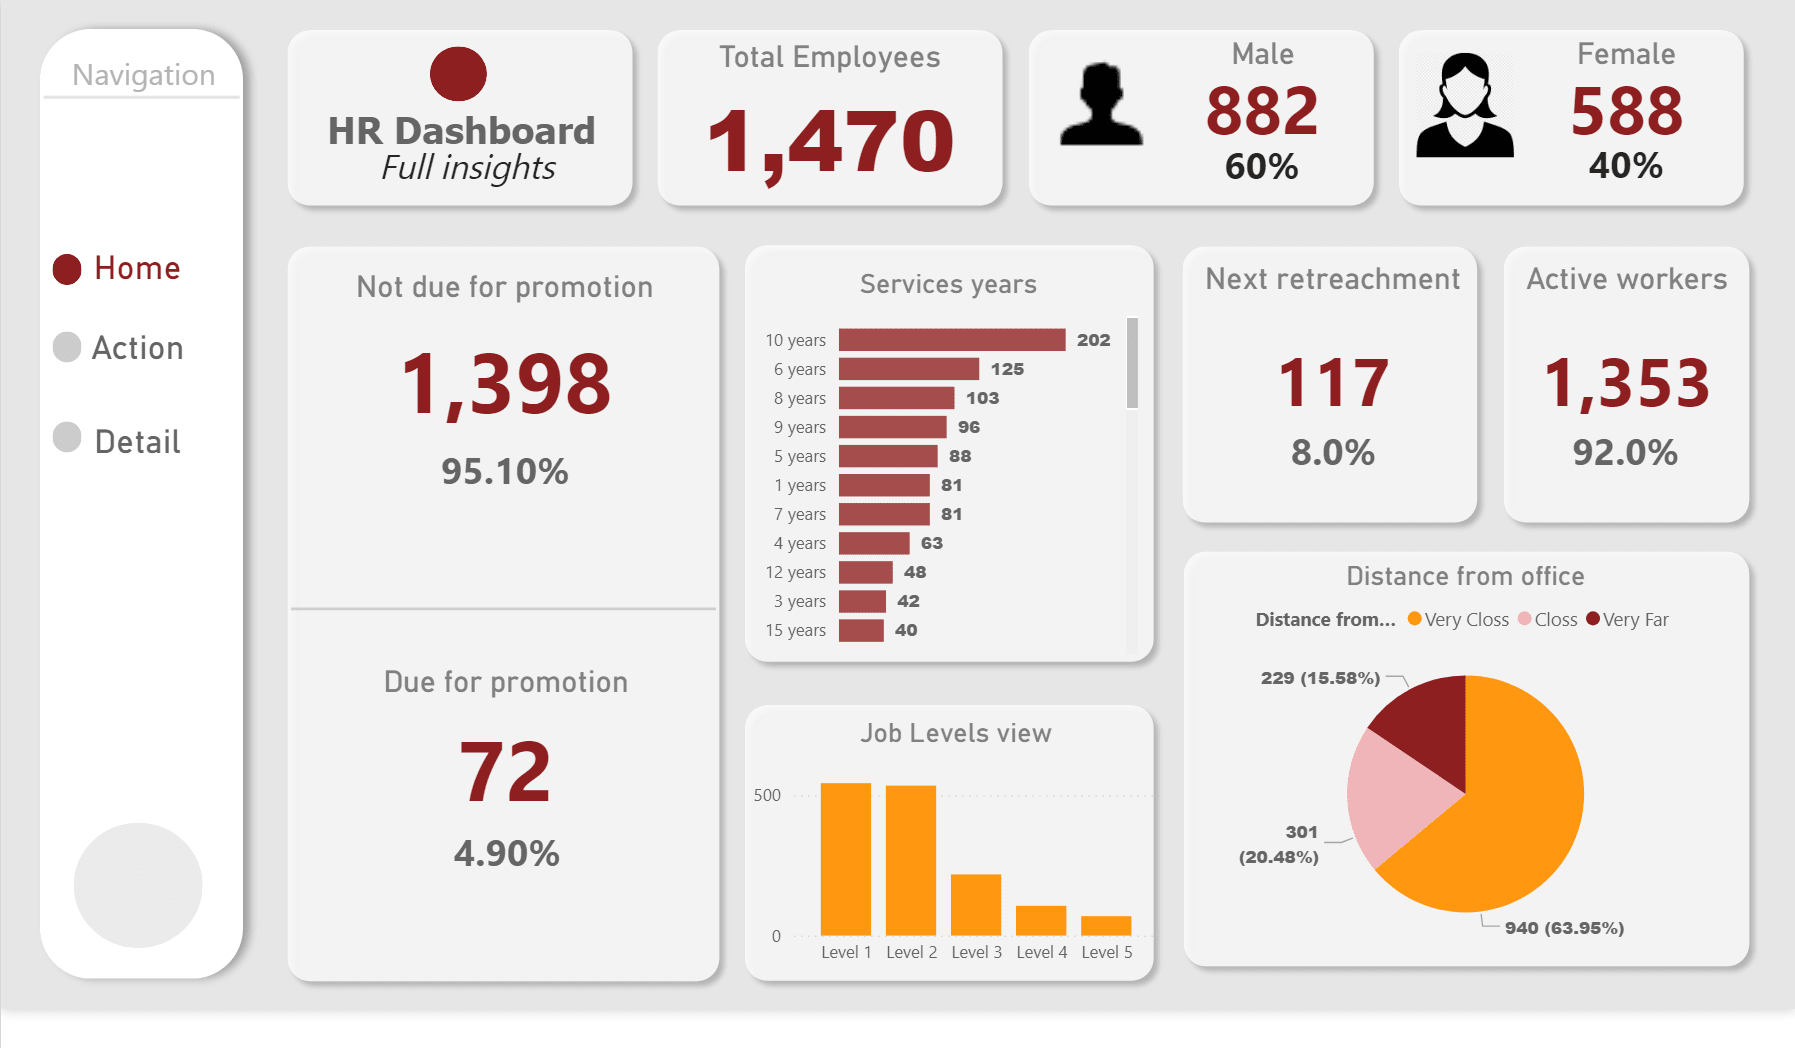

What the dashboard file says about the page in this screenshot:
{"tool":"powerbi","page":{"name":"Home","canvas":[1280,720],"ordinal":0},"visuals":[{"type":"shape","box":[16.5,9.6,166.5,699.2],"z":0},{"type":"shape","box":[195.4,12.4,264.3,143.1],"z":1000},{"type":"shape","box":[459.7,12.4,264.3,143.1],"z":2000},{"type":"shape","box":[724,12.4,264.3,143.1],"z":3000},{"type":"shape","box":[988.2,12.4,264.3,143.1],"z":4000},{"type":"shape","box":[195.4,166.5,326.2,542.3],"z":5000},{"type":"shape","box":[521.6,166.2,309.7,315.2],"z":6000},{"type":"shape","box":[521.6,494.1,309.7,214.7],"z":7000},{"type":"shape","box":[834.8,384.2,421.6,314.1],"z":8000},{"type":"shape","box":[833.6,166.7,228.3,215],"z":9000},{"type":"shape","box":[1063.1,166.7,193.3,215],"z":10000},{"type":"textbox","box":[209.7,71.2,238.7,51.4],"z":11000},{"type":"textbox","box":[36.9,33,130.5,51.4],"z":12000},{"type":"textbox","box":[209.7,97.6,251.9,55.4],"z":13000},{"type":"shape","box":[305.9,33,40.9,39.6],"z":14000},{"type":"card","title":"Total Employees","fields":{"Values":["All Measures.Total Emp"]},"box":[468,27.5,246.4,112.9],"z":15000},{"type":"card","title":"Male","fields":{"Values":["All Measures.Male"]},"box":[814.8,26.2,170.7,75.7],"z":16000},{"type":"card","fields":{"Values":["All Measures.Male %"]},"box":[834.1,90.8,132.1,55.1],"z":17000},{"type":"card","title":"Female","fields":{"Values":["All Measures.Female"]},"box":[1068.7,26.2,183.1,75.7],"z":18000},{"type":"card","fields":{"Values":["All Measures.Female %"]},"box":[1083.9,90.8,152.8,53.7],"z":19000},{"type":"image","box":[736.3,26.2,95,90.8],"z":20000},{"type":"actionButton","title":"Home","box":[27.8,176.4,140.1,30.2],"z":21000},{"type":"image","box":[1004.7,33,79.8,84],"z":22000},{"type":"actionButton","title":"Action","box":[27.7,233.4,139.8,56.7],"z":23000},{"type":"card","title":"Active workers","fields":{"Values":["All Measures.On service"]},"box":[1058.3,186,203,142.6],"z":24000},{"type":"actionButton","title":"Detail","box":[27.7,300.7,139.8,58],"z":25000},{"type":"card","fields":{"Values":["All Measures.% Active workers"]},"box":[1082.4,296,153.4,53.2],"z":26000},{"type":"card","title":"Next retreachment","fields":{"Values":["All Measures.Due for retirment"]},"box":[843.2,186,215,142.6],"z":27000},{"type":"card","fields":{"Values":["All Measures.%Due for retirment"]},"box":[865,296,171.5,53.2],"z":28000},{"type":"columnChart","title":"Job Levels view","fields":{"Category":["HR Analytics Data.Job Level"],"Y":["All Measures.Total Emp"]},"box":[531.3,512,300,185.8],"z":29000},{"type":"barChart","title":"Services years","fields":{"Category":["HR Analytics Data.Total working Years"],"Y":["All Measures.Total Emp"]},"box":[536.4,192.1,280.3,280.3],"z":30000},{"type":"pieChart","title":"Distance from office","fields":{"Category":["HR Analytics Data.Distance from office"],"Y":["All Measures.Total Emp"]},"box":[840.8,399.9,408.3,282.7],"z":31000},{"type":"card","title":"Not due for promotion","fields":{"Values":["All Measures.Not Due"]},"box":[207.8,192.1,303.2,130.5],"z":32000},{"type":"card","title":"Due for promotion","fields":{"Values":["All Measures.Due for promotion"]},"box":[209,473.8,303.2,119.6],"z":33000},{"type":"shape","box":[206.6,427.7,303.2,14.5],"z":34000},{"type":"card","fields":{"Values":["All Measures.% Not due for promotion"]},"box":[283.5,309.7,152.8,53.7],"z":35000},{"type":"card","fields":{"Values":["All Measures.% Due for promotion"]},"box":[285.1,582.5,152.2,53.2],"z":36000},{"type":"shape","box":[36.9,180.7,21.1,22.4],"z":37000},{"type":"shape","box":[36.9,236,21.1,22.4],"z":38000},{"type":"shape","box":[36.9,300.7,21.1,22.4],"z":39000},{"type":"shape","box":[51.4,586.8,92.3,89.7],"z":40000},{"type":"shape","box":[30.2,61.6,140.1,15.7],"z":41000}]}

Visuals, with their boxes on the page's 1280x720 design canvas (x1, y1, x2, y2). These are canvas units, not pixel positions in the 1795x1048 screenshot, which may show the page scaled, cropped or inside an application window:
shape: 16:10:183:709
shape: 195:12:460:156
shape: 460:12:724:156
shape: 724:12:988:156
shape: 988:12:1252:156
shape: 195:166:522:709
shape: 522:166:831:481
shape: 522:494:831:709
shape: 835:384:1256:698
shape: 834:167:1062:382
shape: 1063:167:1256:382
textbox: 210:71:448:123
textbox: 37:33:167:84
textbox: 210:98:462:153
shape: 306:33:347:73
"Total Employees" card: 468:28:714:140
"Male" card: 815:26:986:102
card - All Measures.Male %: 834:91:966:146
"Female" card: 1069:26:1252:102
card - All Measures.Female %: 1084:91:1237:144
image: 736:26:831:117
"Home" actionButton: 28:176:168:207
image: 1005:33:1084:117
"Action" actionButton: 28:233:168:290
"Active workers" card: 1058:186:1261:329
"Detail" actionButton: 28:301:168:359
card - All Measures.% Active workers: 1082:296:1236:349
"Next retreachment" card: 843:186:1058:329
card - All Measures.%Due for retirment: 865:296:1036:349
"Job Levels view" columnChart: 531:512:831:698
"Services years" barChart: 536:192:817:472
"Distance from office" pieChart: 841:400:1249:683
"Not due for promotion" card: 208:192:511:323
"Due for promotion" card: 209:474:512:593
shape: 207:428:510:442
card - All Measures.% Not due for promotion: 284:310:436:363
card - All Measures.% Due for promotion: 285:582:437:636
shape: 37:181:58:203
shape: 37:236:58:258
shape: 37:301:58:323
shape: 51:587:144:676
shape: 30:62:170:77
